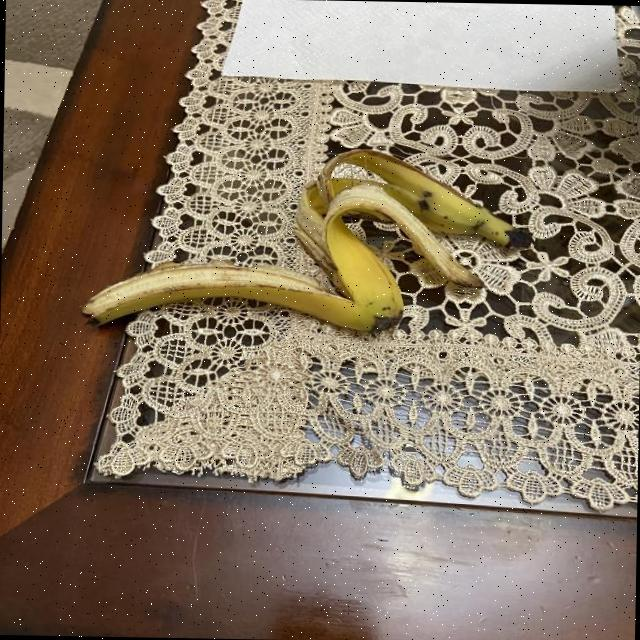banana-peel: (79, 142, 523, 338), (315, 146, 521, 250)
